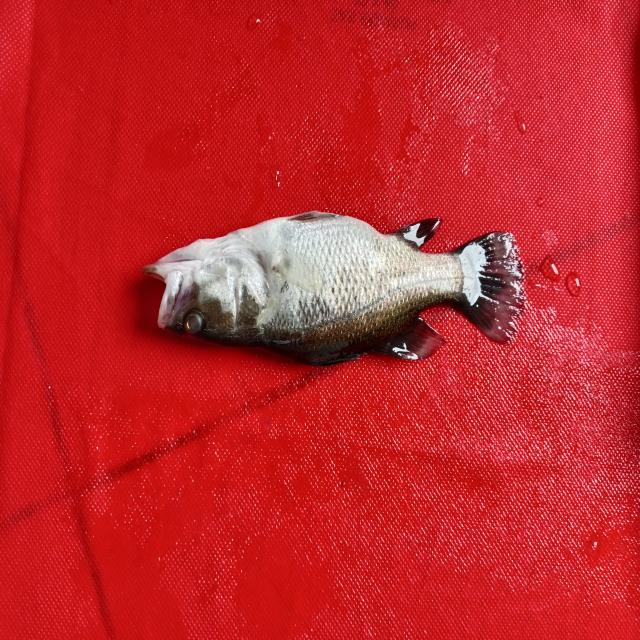ikan: (131, 182, 416, 337), (119, 160, 300, 363)
